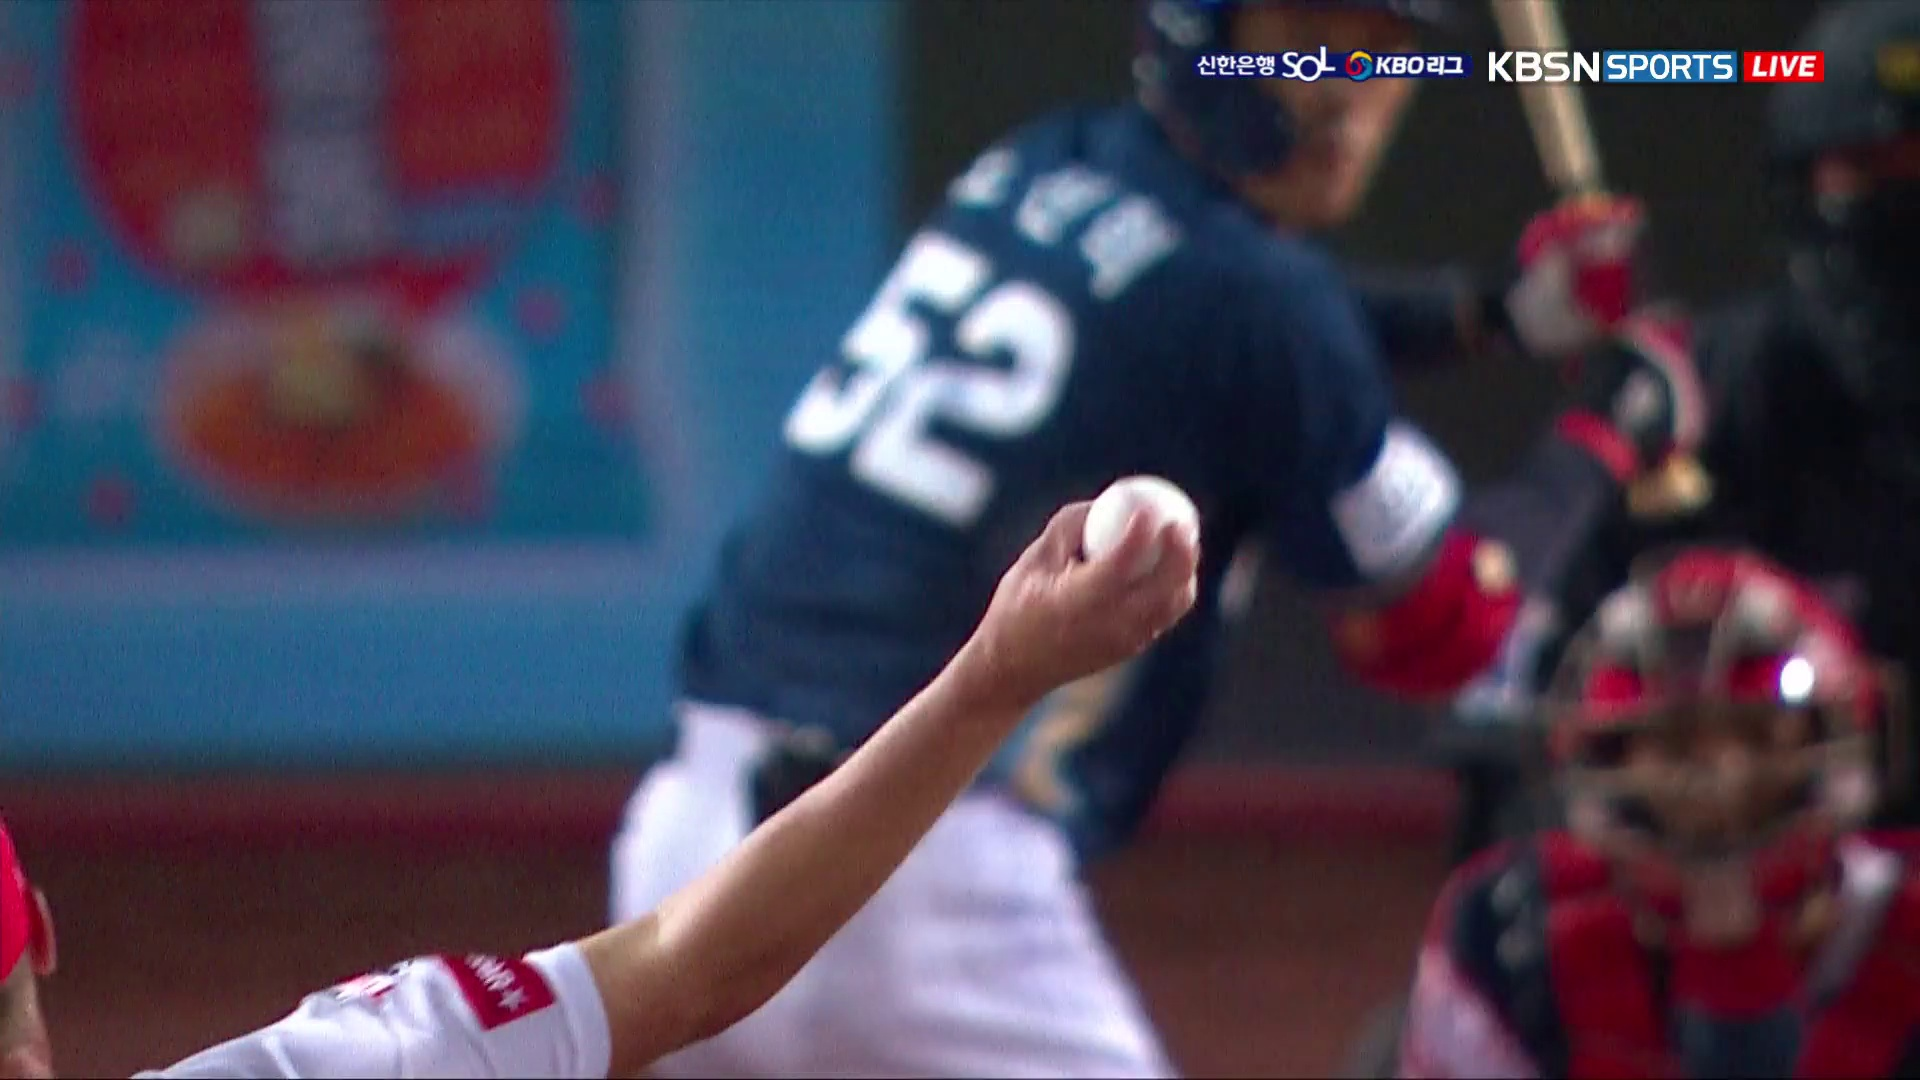zoomin_hand: (642, 468, 1226, 1058)
